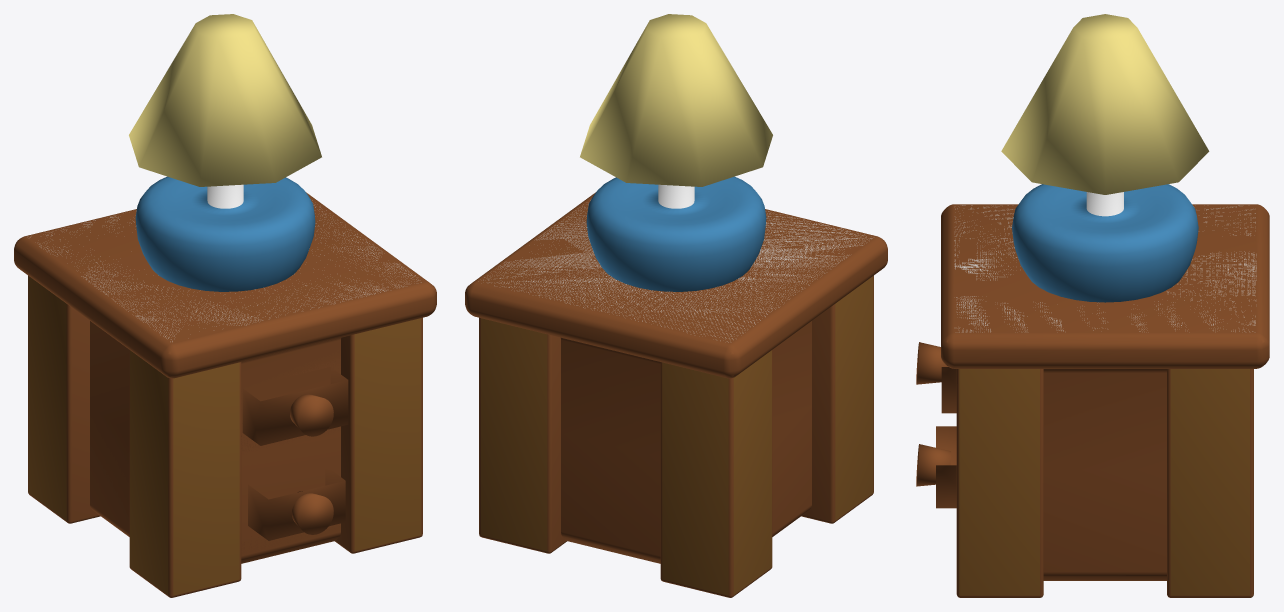
File: BASUCUVELAMBASI (1).fbx
The picture shows the model from 3 angles, left to right: view 1: azimuth 30°, elevation 25°; view 2: azimuth 150°, elevation 25°; view 3: azimuth 270°, elevation 25°; orthographic projection. The views are drawn at different scales.
Parts seen in each view (by area): view 1: Cube.002; view 2: Cube.002; view 3: Cube.002.
Part boxes in pixels (x1=…): Cube.002: x1=14, y1=14, x2=436, y2=597; Cube.002: x1=465, y1=14, x2=887, y2=597; Cube.002: x1=916, y1=14, x2=1269, y2=597.
Size of the model in its own units: 260 by 442 by 279.
